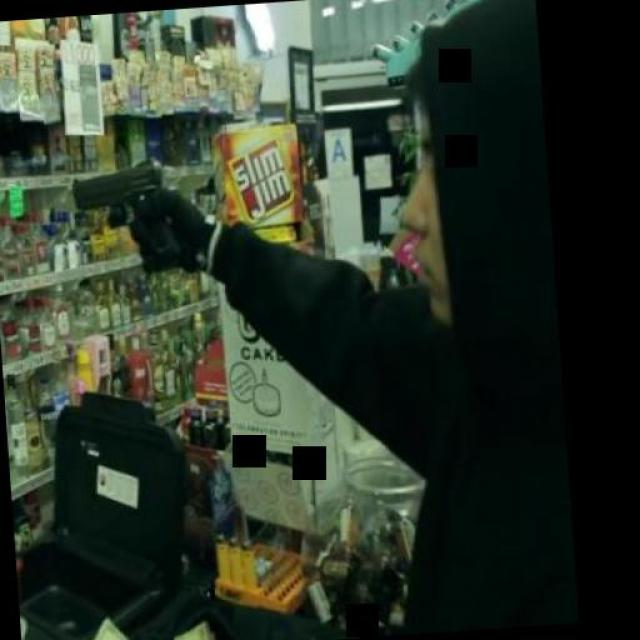gun: (64, 152, 198, 278)
